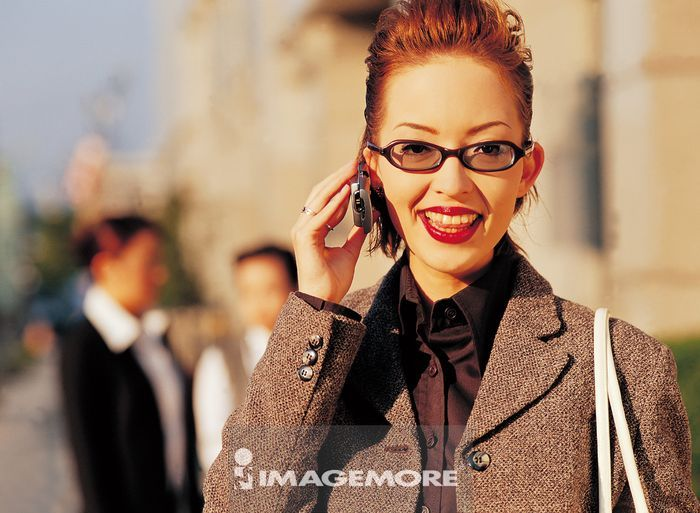phone: (354, 135, 377, 234)
talk: (292, 114, 519, 307)
